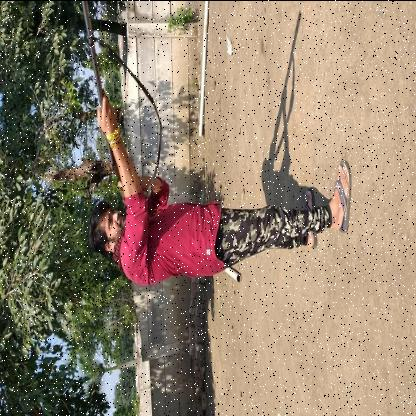rifle: (82, 0, 152, 230)
